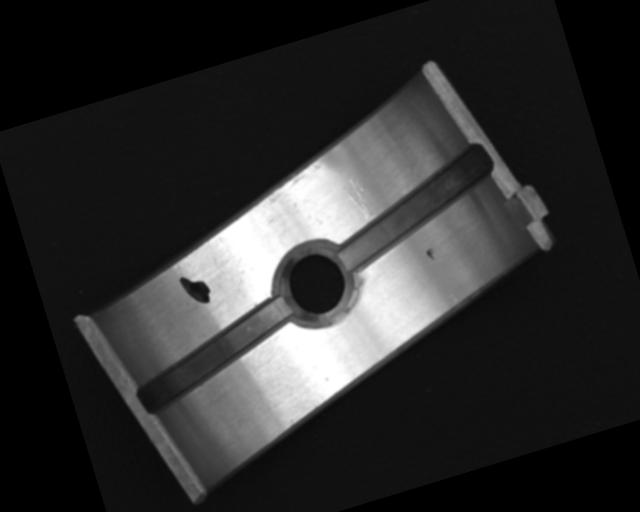blot: (177, 270, 214, 310)
bruise: (424, 247, 437, 262)
gap: (321, 142, 508, 275), (124, 298, 306, 417)
hole: (273, 236, 363, 335)
nick: (339, 172, 373, 224)
